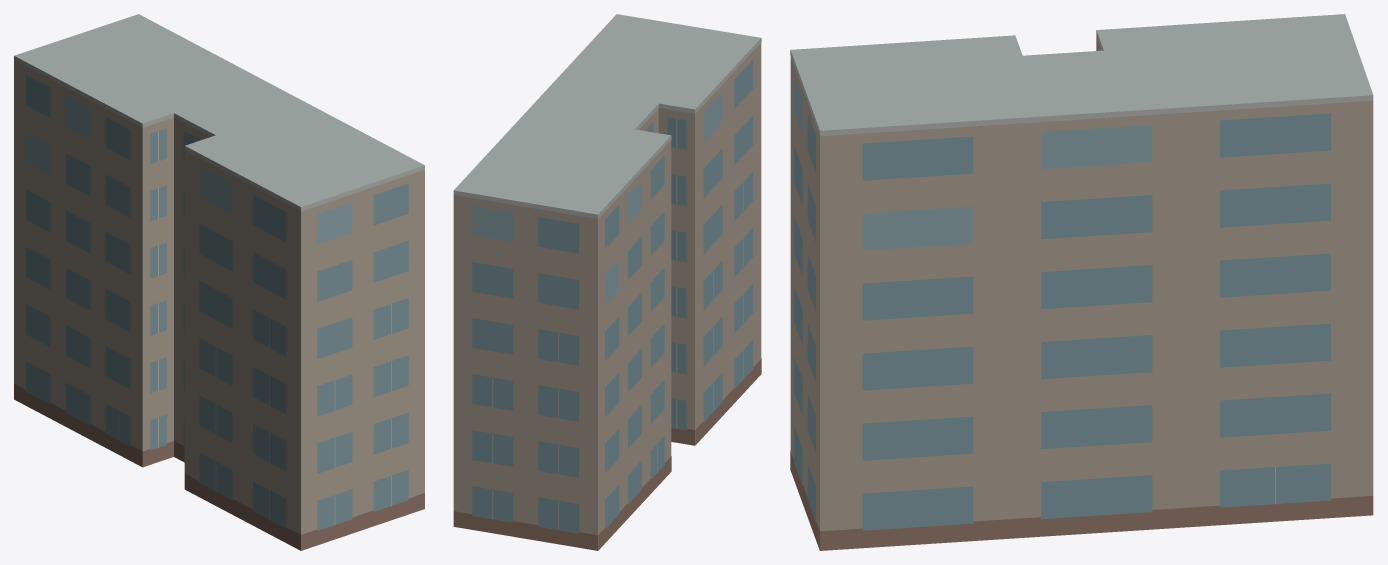
The model's file is survey-upis-33042881.glb.
3 views of the same model, side by side, from view 1: azimuth 30°, elevation 25°; view 2: azimuth 150°, elevation 25°; view 3: azimuth 270°, elevation 25° (orthographic). The views are drawn at different scales.
Visible parts, largest first — view 1: survey-upis-33042881.tmp; view 2: survey-upis-33042881.tmp; view 3: survey-upis-33042881.tmp.
Boxes of the visible parts, left/top/right/bottom form: survey-upis-33042881.tmp: left=14, top=14, right=424, bottom=550; survey-upis-33042881.tmp: left=453, top=14, right=761, bottom=550; survey-upis-33042881.tmp: left=790, top=14, right=1373, bottom=550.
Bounding box in the file's own units: 11.16 × 18.7 × 23.53.
